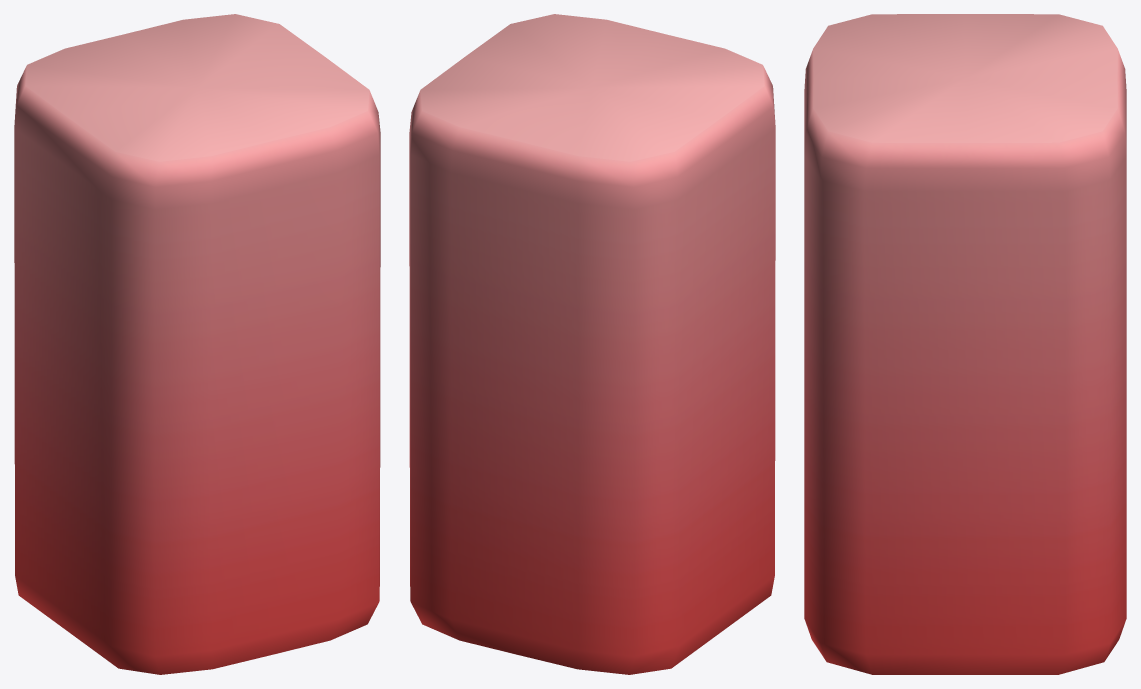
The model's file is Juice_Bottle_Liquid004.FBX.
3 views of the same model, side by side, from view 1: azimuth 30°, elevation 25°; view 2: azimuth 150°, elevation 25°; view 3: azimuth 270°, elevation 25° (orthographic). The views are drawn at different scales.
Visible parts, largest first — view 1: Juice_Bottle_Liquid004; view 2: Juice_Bottle_Liquid004; view 3: Juice_Bottle_Liquid004.
Part boxes in pixels (x1=…): Juice_Bottle_Liquid004: x1=14, y1=14, x2=380, y2=674; Juice_Bottle_Liquid004: x1=409, y1=14, x2=775, y2=674; Juice_Bottle_Liquid004: x1=804, y1=14, x2=1126, y2=674.
Bounding box in the file's own units: 9.49 × 17.28 × 9.5.
